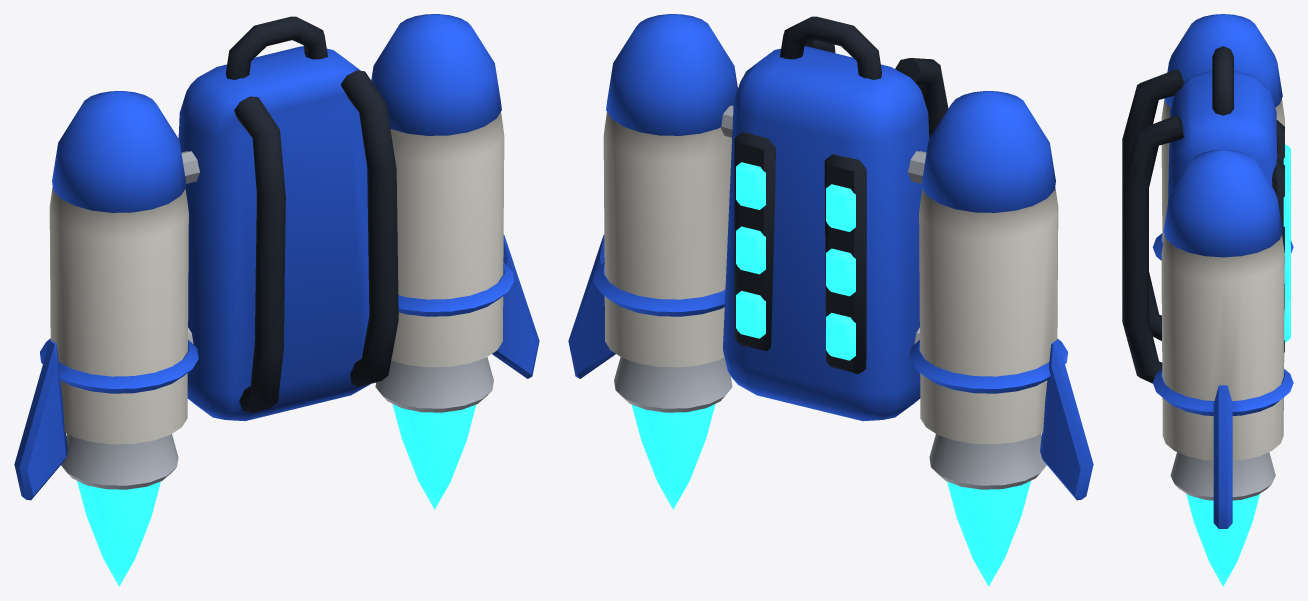
The model's file is boost-pack.glb.
3 renders of one model, left to right at view 1: azimuth 30°, elevation 25°; view 2: azimuth 150°, elevation 25°; view 3: azimuth 270°, elevation 25°, orthographic. The views are drawn at different scales.
Visible parts, largest first — view 1: Boost pack Booster cobalt, Boost pack Booster ivory, Boost pack Harness charcoal, Boost pack Nozzle alloy, Boost pack Booster charge glow; view 2: Boost pack Booster cobalt, Boost pack Booster ivory, Boost pack Booster charge glow, Boost pack Harness charcoal, Boost pack Nozzle alloy; view 3: Boost pack Booster cobalt, Boost pack Booster ivory, Boost pack Harness charcoal, Boost pack Booster charge glow, Boost pack Nozzle alloy.
Part boxes in pixels (left/top/right/bottom): Boost pack Booster cobalt: left=14, top=14, right=539, bottom=500; Boost pack Booster ivory: left=49, top=112, right=504, bottom=444; Boost pack Harness charcoal: left=226, top=16, right=398, bottom=412; Boost pack Nozzle alloy: left=61, top=151, right=493, bottom=489; Boost pack Booster charge glow: left=77, top=404, right=475, bottom=586; Boost pack Booster cobalt: left=568, top=14, right=1093, bottom=500; Boost pack Booster ivory: left=603, top=112, right=1058, bottom=444; Boost pack Booster charge glow: left=632, top=162, right=1030, bottom=586; Boost pack Harness charcoal: left=734, top=16, right=948, bottom=374; Boost pack Nozzle alloy: left=614, top=105, right=1046, bottom=489; Boost pack Booster cobalt: left=1152, top=14, right=1293, bottom=528; Boost pack Booster ivory: left=1161, top=99, right=1284, bottom=460; Boost pack Harness charcoal: left=1122, top=46, right=1284, bottom=383; Boost pack Booster charge glow: left=1186, top=144, right=1290, bottom=586; Boost pack Nozzle alloy: left=1170, top=452, right=1275, bottom=500.
Size of the model in its own units: 1.27 by 1.23 by 0.4109.
